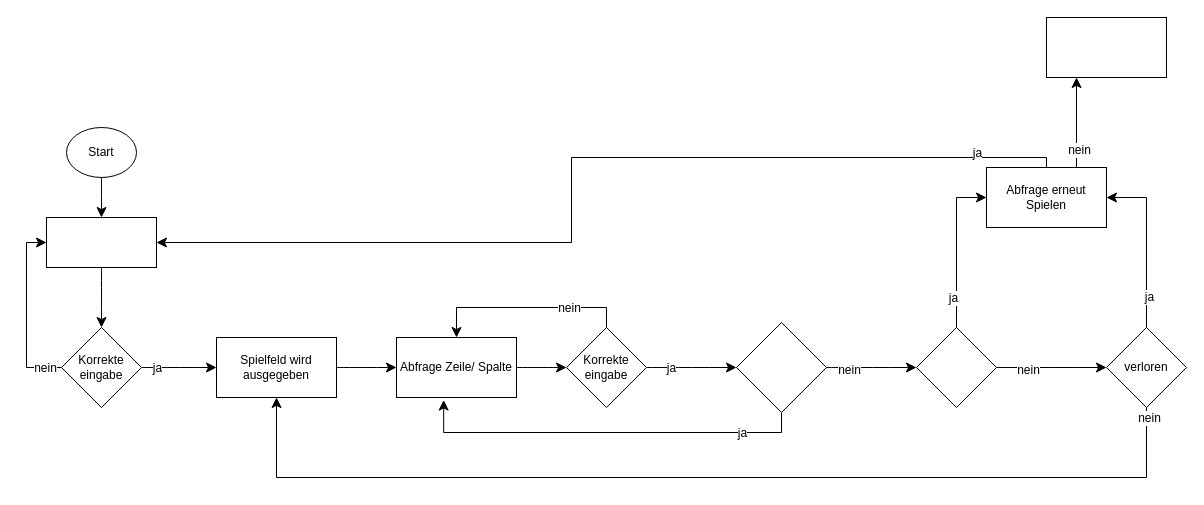
Some shapes in this 1204 by 505 pixel diagram are drawn without their labels. The box of each missing label's shape, as (x1, y1, x2, y2) in pixels:
Abfrage Spielfeldgröße: (46, 216, 156, 268)
Beende Spiel: (1046, 16, 1166, 78)
Bereits aufgedeckt: (736, 322, 826, 412)
gewonnen: (916, 326, 996, 408)
